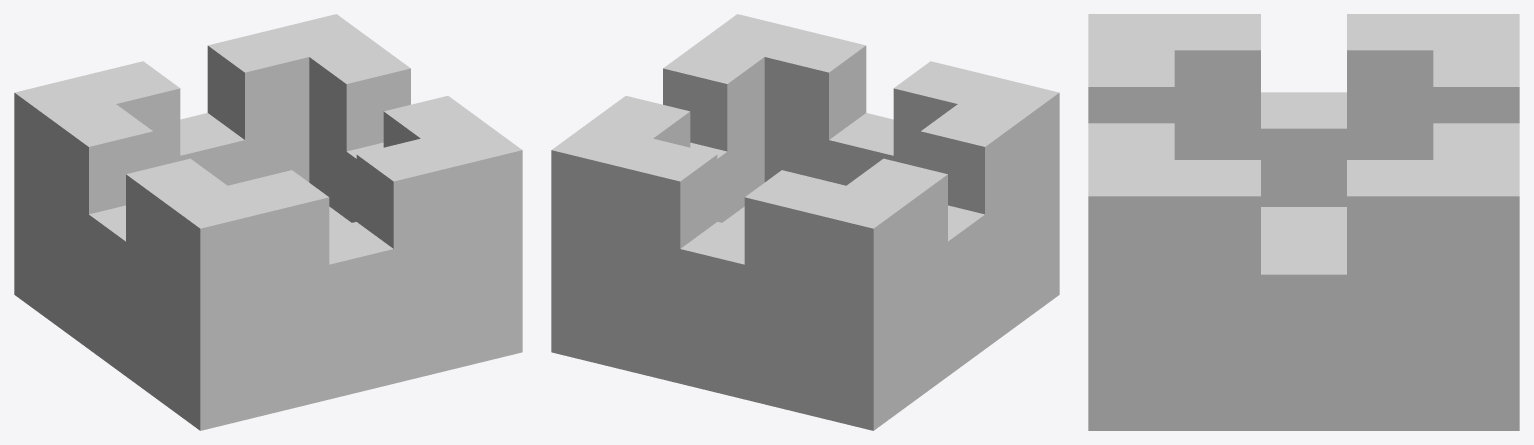
The model's file is ashtray.glb.
3 views of the same model, side by side, from view 1: azimuth 30°, elevation 25°; view 2: azimuth 150°, elevation 25°; view 3: azimuth 270°, elevation 25° (orthographic). The views are drawn at different scales.
Visible parts, largest first — view 1: Untitled; view 2: Untitled; view 3: Untitled.
Part boxes in pixels (x1,y1,x2,y2): Untitled: (14, 14, 522, 430); Untitled: (551, 14, 1059, 430); Untitled: (1088, 14, 1519, 430).
Size of the model in its own units: 0.15 by 0.09 by 0.15.
1 material, 1 textured.
